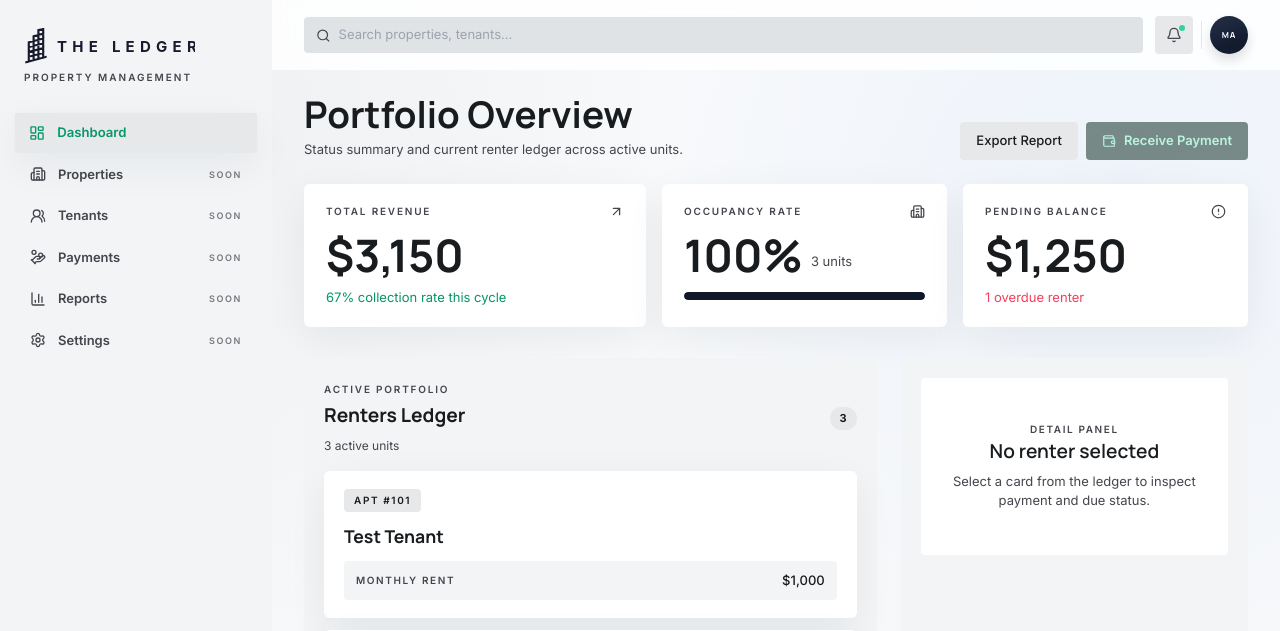
Scenario: RenterDashboardPage › shows an empty state when no renters match
Expected: the text "Apt #101" is shown, [344,489,421,512]
In the field labelled "Search properties, tenants...": (735, 35) [339,25,1131,45], type "does not exist"
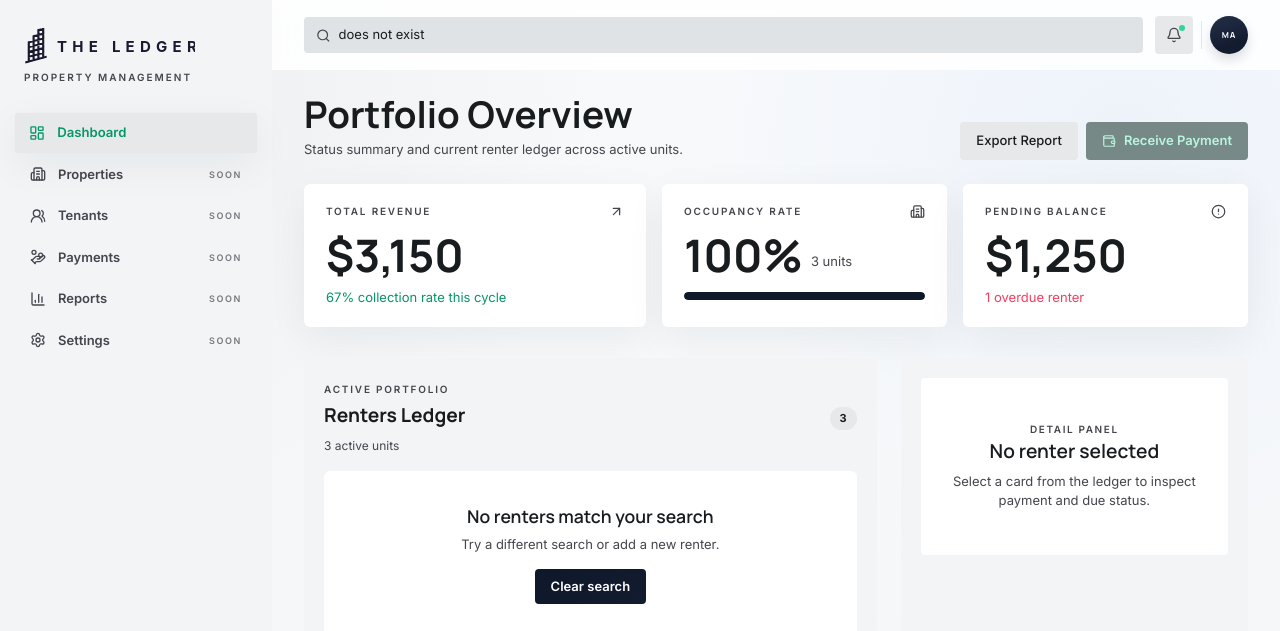
Expected: the text "No renters match your search" is shown, [467,504,714,528]
Expected: the button "Clear search" is shown, [535,569,646,604]
